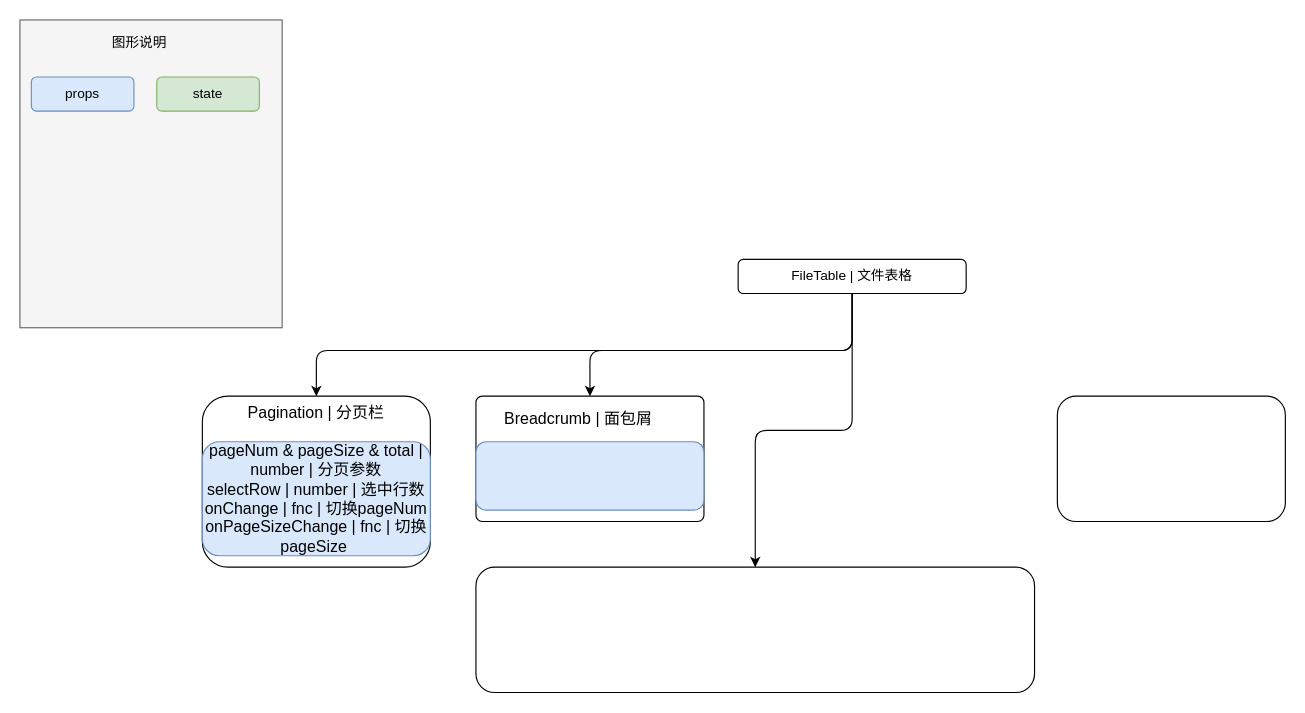
Image size: 1305x713. Some labels were removed from this diagram. Here are the shapes that lost their labels. From the top down, the box of each, then its label:
(475, 441, 704, 510): BCList | Array | 面包屑列表 onBreadcrumbUpdate | Fnc | 点击item时回调
(475, 566, 1035, 693): Table | 表格数据主体
